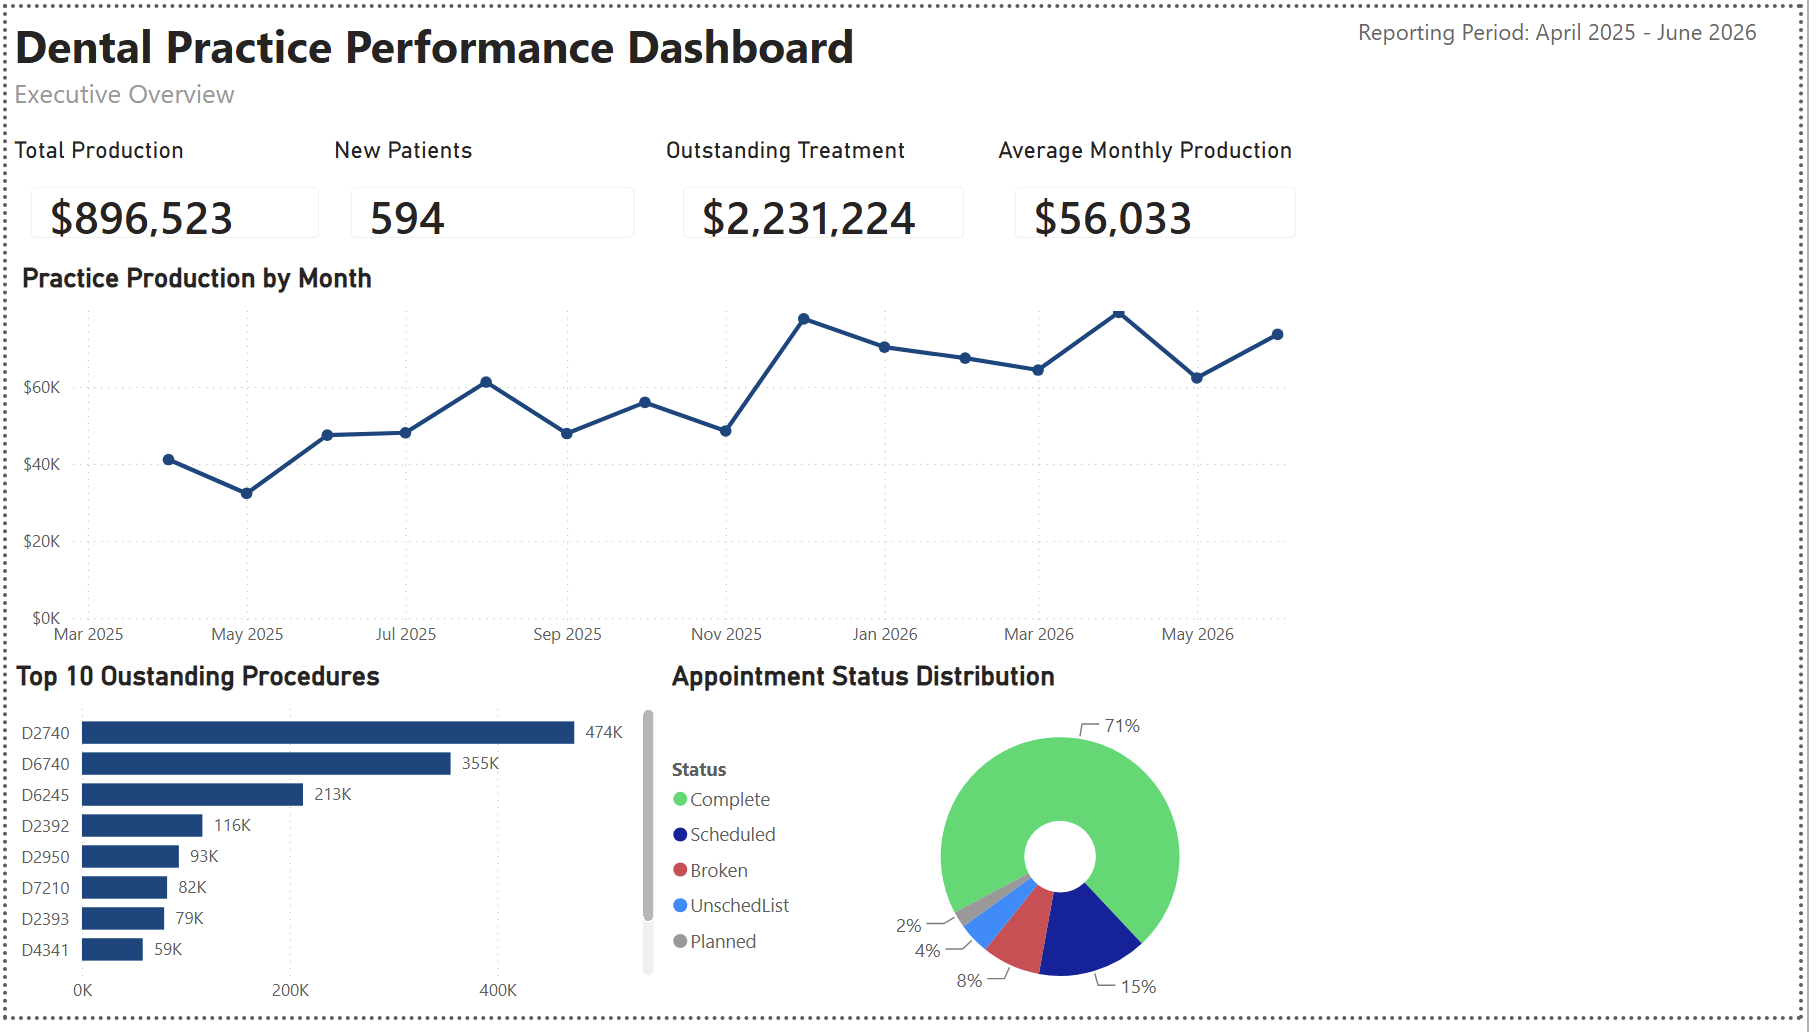

The page's visual inventory and layout, read from the dashboard file:
{"tool":"powerbi","page":{"name":"Executive Dashboard","canvas":[1280,720],"ordinal":0},"visuals":[{"type":"lineChart","title":"Practice Production by Month","fields":{"Y":["Sum(monthly_production_by_month.production)"],"Category":["monthly_production_by_month.month"]},"box":[5.7,181.4,932.9,284.3],"z":0},{"type":"cardVisual","title":"Total Production","fields":{"Data":["Sum(monthly_production_by_month.production)"]},"box":[0,91.4,240,90],"z":1000},{"type":"cardVisual","title":"New Patients","fields":{"Data":["Sum(new_patient.NewPatientCount)"]},"box":[228.6,91.4,237.1,90],"z":2000},{"type":"cardVisual","title":"Outstanding Treatment","fields":{"Data":["Sum(outstanding_treatment.TotalOutstnadingTreatment)"]},"box":[465.7,91.4,235.7,90],"z":3000},{"type":"textbox","box":[0,0,640,90.9],"z":4000},{"type":"barChart","title":"Top 10 Oustanding Procedures","fields":{"Y":["Sum(outstanding_treatment.TotalOutstnadingTreatment)"],"Category":["outstanding_treatment.ProcCode"]},"box":[1,465.7,465.7,254.3],"z":5000},{"type":"donutChart","title":"Appointment Status Distribution","fields":{"Y":["Sum(appt_status.AppointmentCount)"],"Category":["appt_status.AptStatus"]},"box":[472.9,465.7,465.7,255.7],"z":6000},{"type":"cardVisual","title":"Average Monthly Production","fields":{"Data":["appt_status.Average Monthly Production"]},"box":[702.9,91.4,235.7,90],"z":7000},{"type":"textbox","box":[960,0,320,150],"z":8000}]}

Visuals, with their boxes in screenshot pixels (x1, y1, x2, y2), scaled from the page's 1280x720 canvas onto the 1818x1032 screenshot:
"Practice Production by Month" lineChart: pyautogui.locateOnScreen(8, 260, 1333, 668)
"Total Production" cardVisual: pyautogui.locateOnScreen(0, 131, 341, 260)
"New Patients" cardVisual: pyautogui.locateOnScreen(325, 131, 661, 260)
"Outstanding Treatment" cardVisual: pyautogui.locateOnScreen(661, 131, 996, 260)
textbox: pyautogui.locateOnScreen(0, 0, 909, 130)
"Top 10 Oustanding Procedures" barChart: pyautogui.locateOnScreen(1, 668, 663, 1031)
"Appointment Status Distribution" donutChart: pyautogui.locateOnScreen(672, 668, 1333, 1031)
"Average Monthly Production" cardVisual: pyautogui.locateOnScreen(998, 131, 1333, 260)
textbox: pyautogui.locateOnScreen(1364, 0, 1817, 215)
